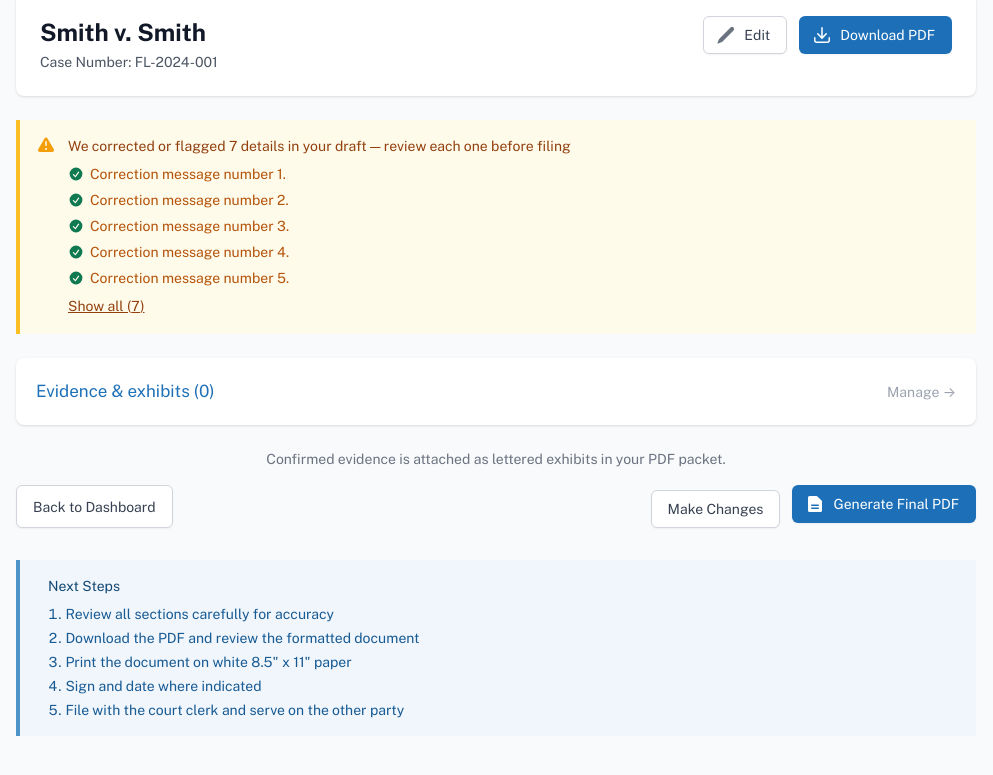
Test case: MotionPreview fact-check banner › collapses past 5 entries behind a Show all toggle
Expected: the text "We corrected or flagged 7 details" is shown, [68,136,571,156]
Expected: the text "Correction message number 5." is shown, [90,268,289,288]
Click the button "Show all (7)" at [106, 306], box [68,296,144,316]
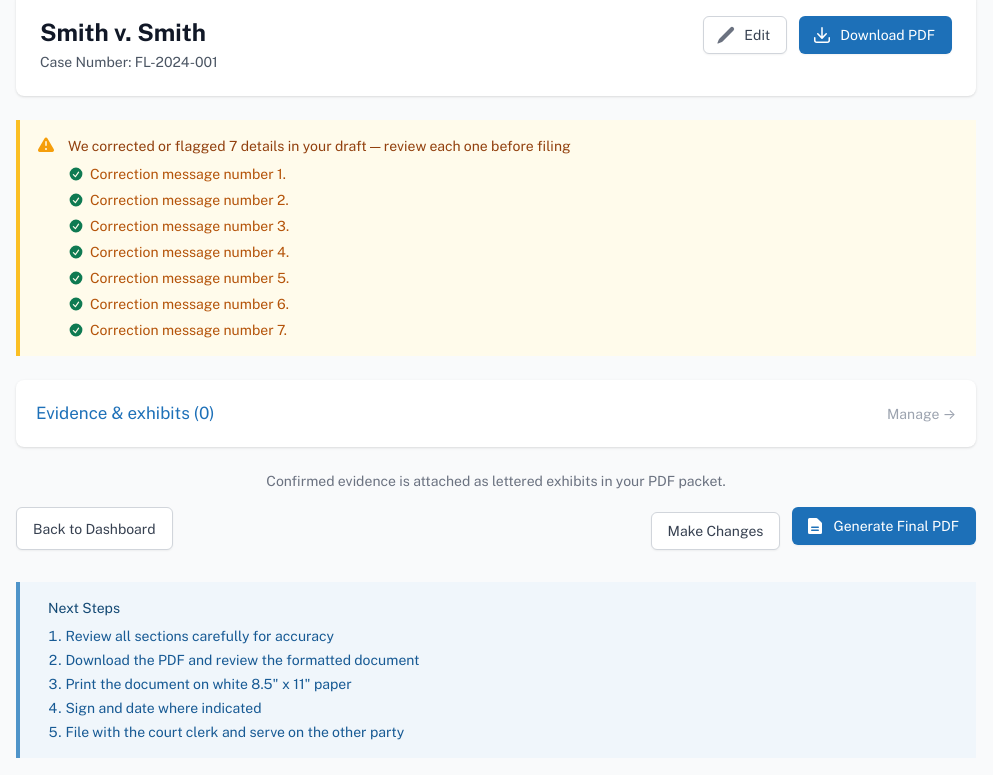
Result: the text "Correction message number 6." is shown at [90,294,289,314]
Result: the text "Correction message number 7." is shown at [90,320,287,340]
